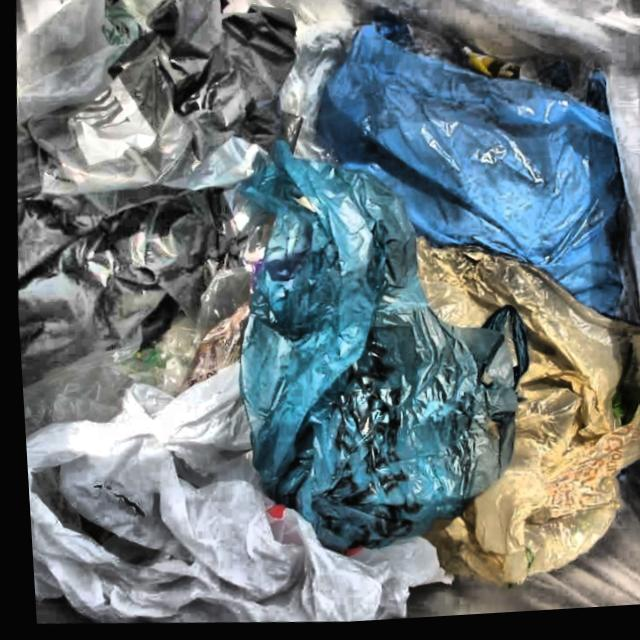Plastic: (196, 131, 528, 605), (292, 0, 640, 350), (9, 13, 308, 403)
